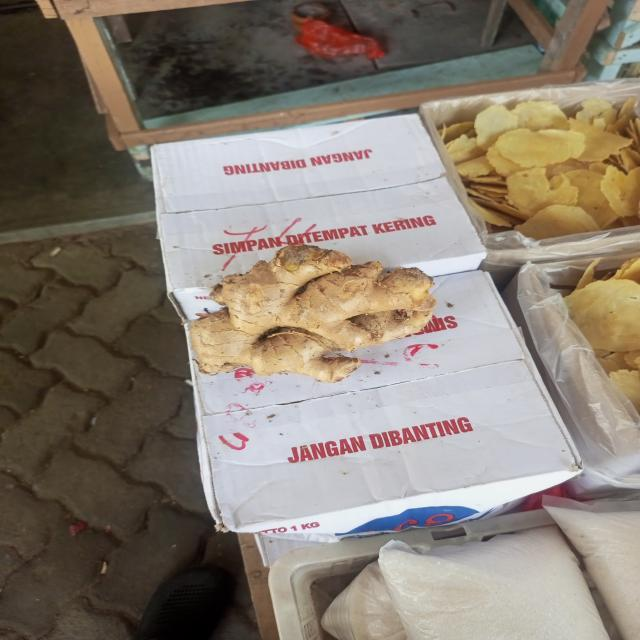ginger: (193, 248, 434, 380)
